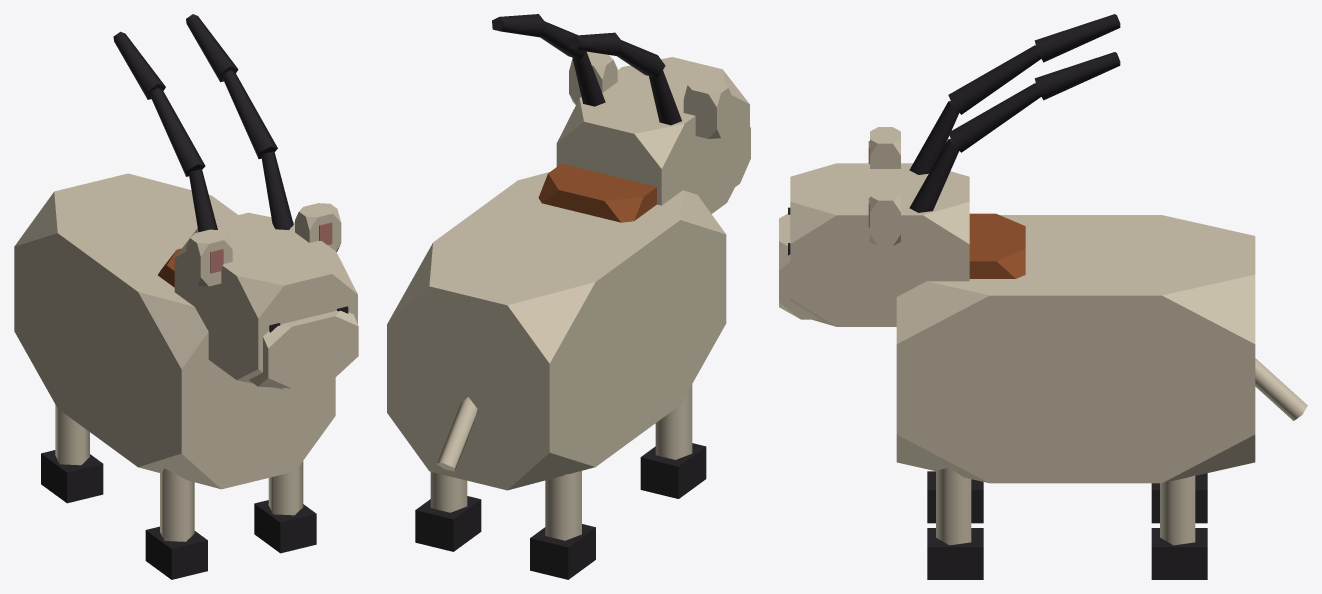
File: original-oryx.glb
The picture shows the model from 3 angles, left to right: view 1: azimuth 30°, elevation 25°; view 2: azimuth 150°, elevation 25°; view 3: azimuth 270°, elevation 25°; orthographic projection. The views are drawn at different scales.
Parts seen in each view (by area): view 1: oryx; view 2: oryx; view 3: oryx.
Part boxes in pixels (x1=…): oryx: x1=14, y1=14, x2=358, y2=579; oryx: x1=387, y1=14, x2=750, y2=579; oryx: x1=779, y1=14, x2=1307, y2=579.
Size of the model in its own units: 0.68 by 2.01 by 1.89.
